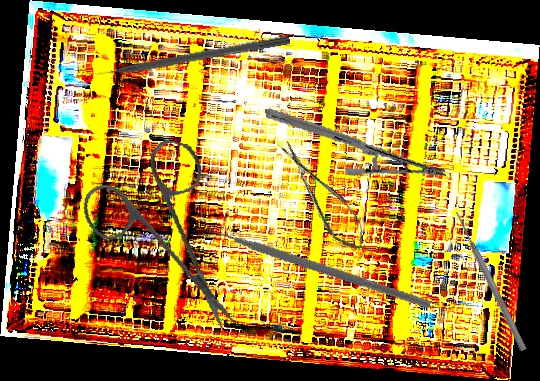Chopper: (198, 163, 433, 354)
Iris Scissors: (62, 124, 272, 331)
Micro Scissor: (273, 132, 374, 260)
Needle Holder: (264, 80, 447, 206)
Pusher: (452, 210, 529, 352), (83, 33, 291, 81)
